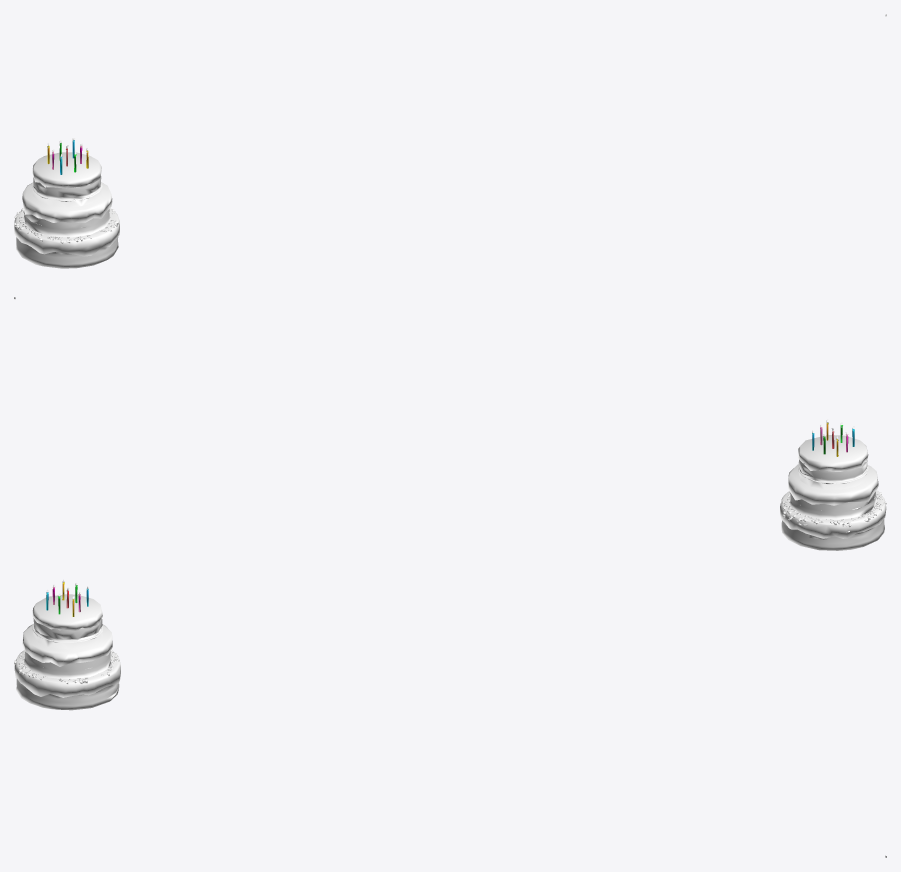
The model's file is cake.glb.
3 views of the same model, one above another, from view 1: azimuth 30°, elevation 25°; view 2: azimuth 150°, elevation 25°; view 3: azimuth 330°, elevation 25° (orthographic).
Parts seen in each view (by area): view 1: cake; view 2: cake; view 3: cake.
Boxes of the visible parts, bbox=[...] form: cake: bbox=[14, 138, 119, 268]; cake: bbox=[780, 419, 886, 550]; cake: bbox=[14, 579, 120, 710].
Size of the model in its own units: 19.15 by 2.17 by 2.03.
